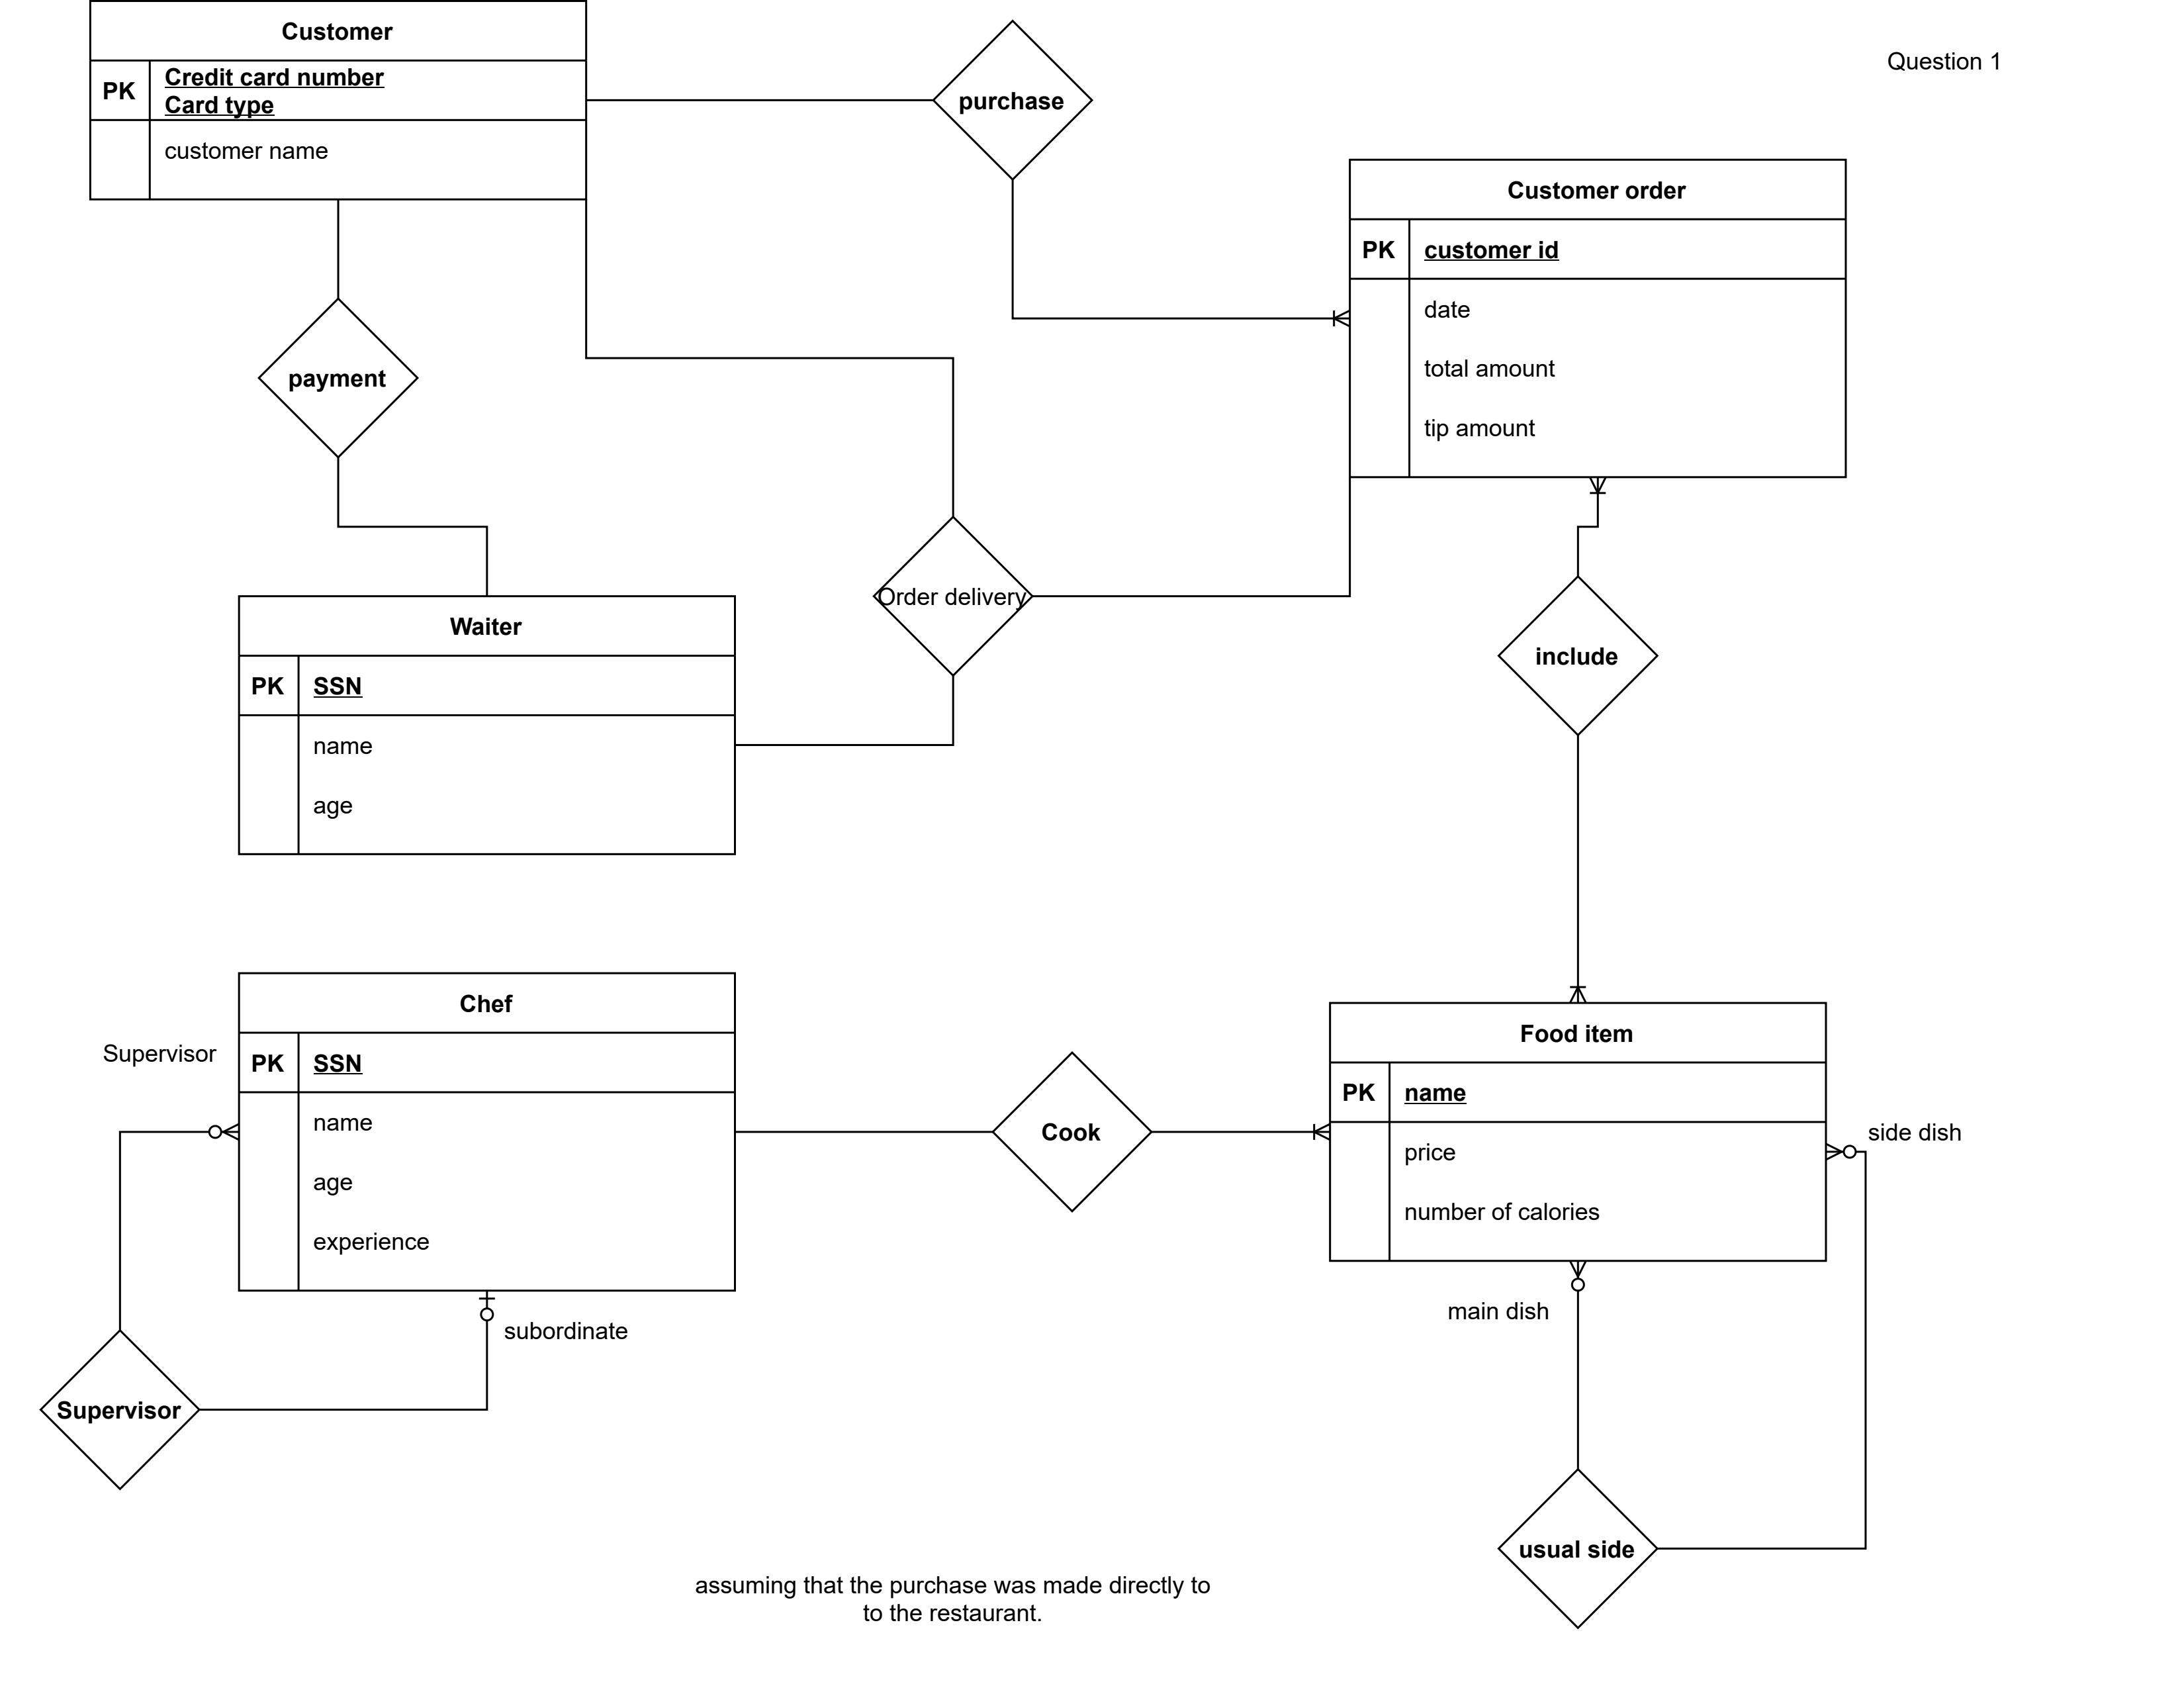Entity: (1344, 152, 1854, 482), (234, 968, 741, 1298), (1324, 998, 1835, 1268), (234, 592, 741, 860), (85, 4, 592, 206)
Relationship: (1494, 574, 1659, 738), (932, 18, 1094, 181), (1494, 1468, 1656, 1631), (37, 1330, 199, 1489), (993, 1050, 1149, 1215), (255, 298, 415, 457), (870, 518, 1033, 674)
